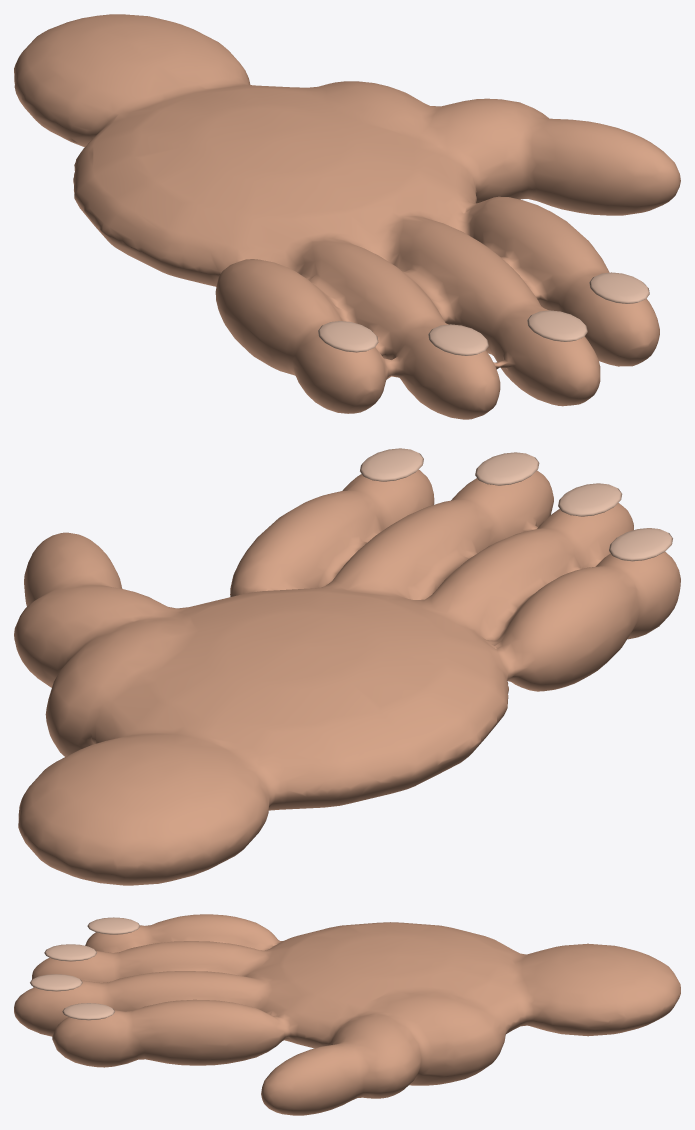
The model's file is Hand.fbx.
3 renders of one model, top to bottom at view 1: azimuth 30°, elevation 25°; view 2: azimuth 150°, elevation 25°; view 3: azimuth 270°, elevation 25°, orthographic. The views are drawn at different scales.
Visible parts, largest first — view 1: Hand continuous skin, Fingernail 3, Fingernail 0, Fingernail 1, Fingernail 2; view 2: Hand continuous skin, Fingernail 3, Fingernail 0, Fingernail 1, Fingernail 2; view 3: Hand continuous skin, Fingernail 3, Fingernail 2, Fingernail 1, Fingernail 0.
Boxes of the visible parts, x1,y1,x2,y2 form: Hand continuous skin: (14,14,680,419); Fingernail 3: (318,321,378,352); Fingernail 0: (589,272,649,303); Fingernail 1: (527,310,587,341); Fingernail 2: (428,324,488,355); Hand continuous skin: (14,469,680,885); Fingernail 3: (609,528,672,561); Fingernail 0: (360,448,423,481); Fingernail 1: (475,452,539,485); Fingernail 2: (558,483,622,516); Hand continuous skin: (14,914,680,1115); Fingernail 3: (87,917,140,934); Fingernail 2: (44,944,96,961); Fingernail 1: (30,974,82,991); Fingernail 0: (62,1003,114,1020).
Size of the model in its own units: 77.9 by 18.53 by 132.
